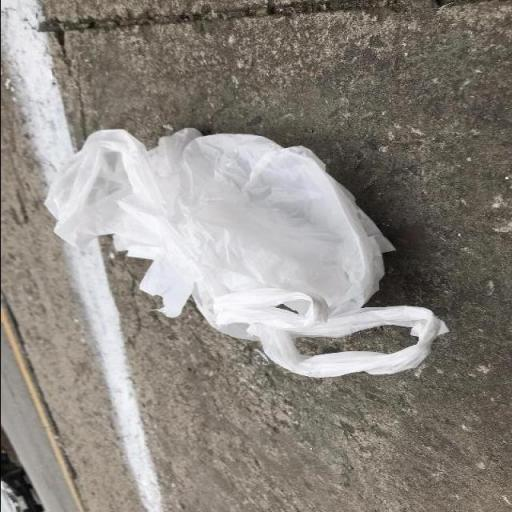plastic-bag: (42, 125, 452, 380)
